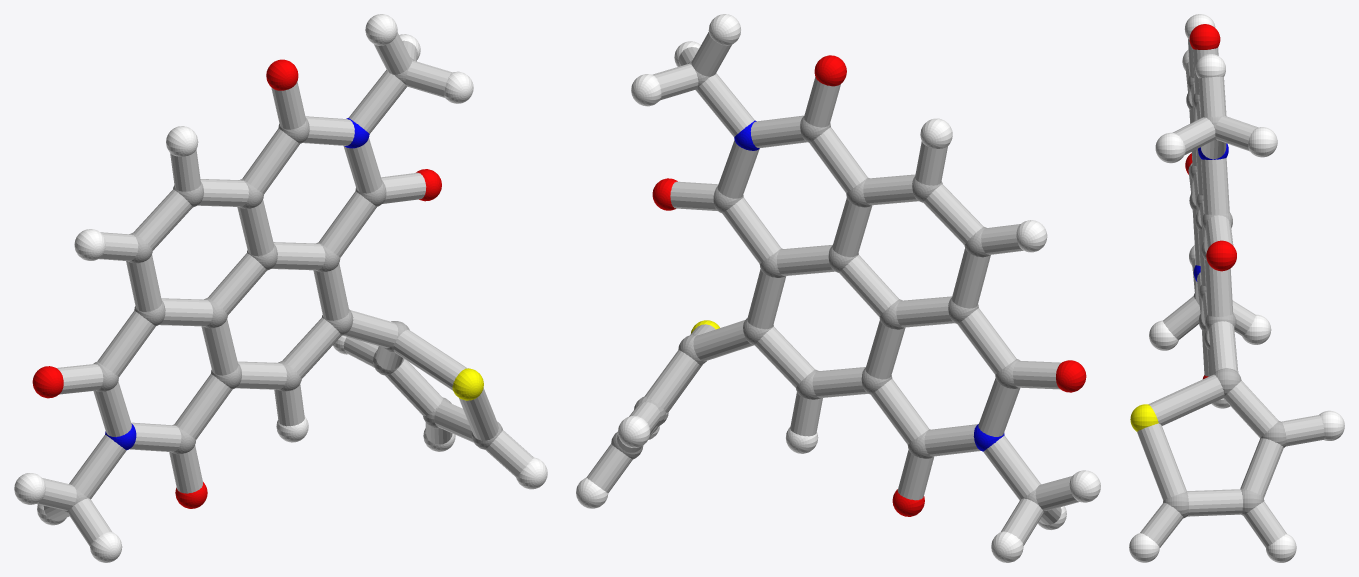
File: Dimethyl_Naphthalene_Dicarboximide_Phi_30_Theta_260_Thiophene.glb
3 renders of one model, left to right at view 1: azimuth 30°, elevation 25°; view 2: azimuth 150°, elevation 25°; view 3: azimuth 270°, elevation 25°, orthographic. The views are drawn at different scales.
Parts seen in each view (by area): view 1: grp14119, grp7241, grp1, grp12309, grp13757, grp11585; view 2: grp14119, grp7241, grp1, grp12309, grp11585; view 3: grp14119, grp7241, grp1, grp12309, grp13757.
Part boxes in pixels (x1,y1,x2,y2): grp14119: [36, 32, 533, 546]; grp7241: [14, 14, 547, 562]; grp1: [63, 57, 502, 513]; grp12309: [32, 59, 441, 508]; grp13757: [452, 368, 483, 400]; grp11585: [105, 118, 369, 450]; grp14119: [586, 32, 1079, 545]; grp7241: [576, 14, 1100, 562]; grp1: [611, 60, 1047, 514]; grp12309: [652, 55, 1086, 516]; grp11585: [734, 120, 1004, 451]; grp14119: [1137, 39, 1324, 547]; grp7241: [1129, 14, 1344, 562]; grp1: [1163, 76, 1286, 518]; grp12309: [1185, 24, 1236, 378]; grp13757: [1130, 404, 1158, 431].
Size of the model in its own units: 10.68 by 9.95 by 4.21.
